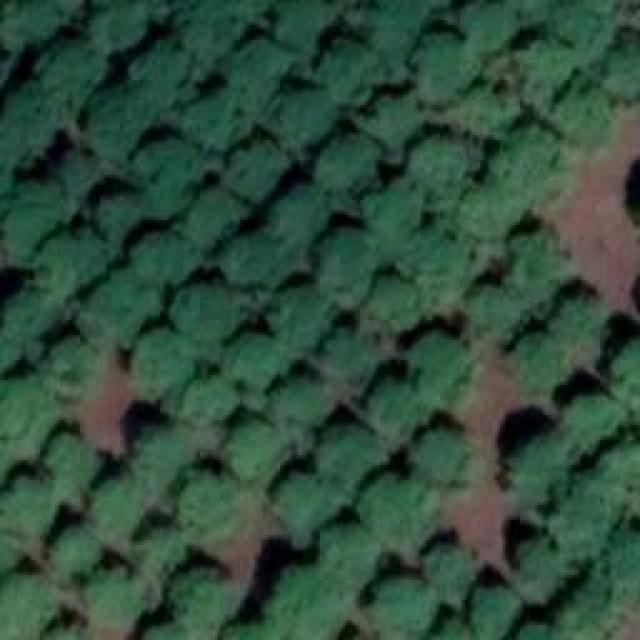Tree: (340, 0, 452, 62), (173, 3, 264, 77), (505, 40, 585, 121), (262, 565, 344, 639), (548, 470, 623, 550), (128, 145, 205, 222), (360, 480, 434, 559), (225, 43, 299, 120), (2, 285, 60, 375), (315, 233, 395, 297), (400, 223, 467, 299), (82, 273, 152, 345), (35, 233, 105, 305), (278, 473, 347, 546), (0, 90, 55, 181), (495, 128, 566, 198), (550, 3, 640, 58), (413, 140, 489, 205), (32, 42, 114, 101), (175, 472, 243, 542), (552, 572, 620, 640), (175, 290, 245, 356), (507, 233, 577, 298), (3, 190, 59, 271), (85, 92, 148, 164), (410, 340, 482, 402), (275, 293, 343, 357), (218, 235, 287, 297), (357, 185, 429, 244), (220, 337, 291, 396), (268, 368, 328, 436), (550, 83, 609, 152), (502, 435, 572, 493), (315, 528, 376, 594), (410, 430, 473, 493), (133, 235, 197, 297), (360, 98, 425, 159), (180, 190, 245, 251), (325, 433, 391, 493), (370, 582, 438, 640), (412, 28, 471, 94), (0, 377, 47, 459), (128, 50, 190, 112), (3, 8, 65, 70), (265, 188, 329, 248), (373, 382, 440, 439), (175, 98, 237, 159), (270, 90, 336, 147), (223, 140, 286, 199), (85, 190, 145, 251), (2, 577, 61, 639), (132, 338, 191, 400), (225, 420, 283, 483), (40, 153, 99, 214), (85, 3, 170, 45), (320, 140, 380, 199), (323, 47, 382, 107), (180, 375, 244, 428), (512, 331, 570, 388), (320, 330, 378, 387), (275, 5, 341, 55), (0, 477, 55, 536), (457, 184, 516, 238), (44, 337, 98, 396), (135, 520, 188, 580), (460, 5, 526, 52), (173, 568, 232, 620), (47, 436, 105, 488), (88, 568, 146, 619), (565, 400, 627, 447), (470, 588, 525, 640), (462, 88, 521, 136), (470, 288, 528, 335), (425, 548, 478, 599), (50, 530, 103, 581), (370, 278, 422, 329), (598, 535, 640, 592), (135, 428, 192, 470), (610, 25, 640, 103), (90, 485, 143, 528), (552, 290, 599, 337), (605, 438, 640, 488), (515, 540, 557, 576), (617, 335, 640, 400), (425, 615, 468, 640), (225, 623, 284, 640), (515, 625, 574, 640), (143, 623, 190, 640), (0, 533, 19, 574), (48, 625, 102, 639), (632, 167, 640, 225)
